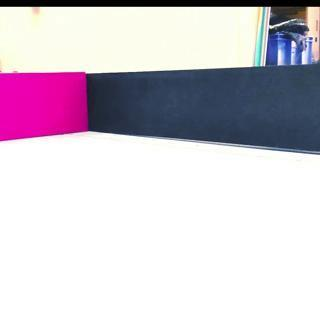xparking: (1, 74, 84, 134)
